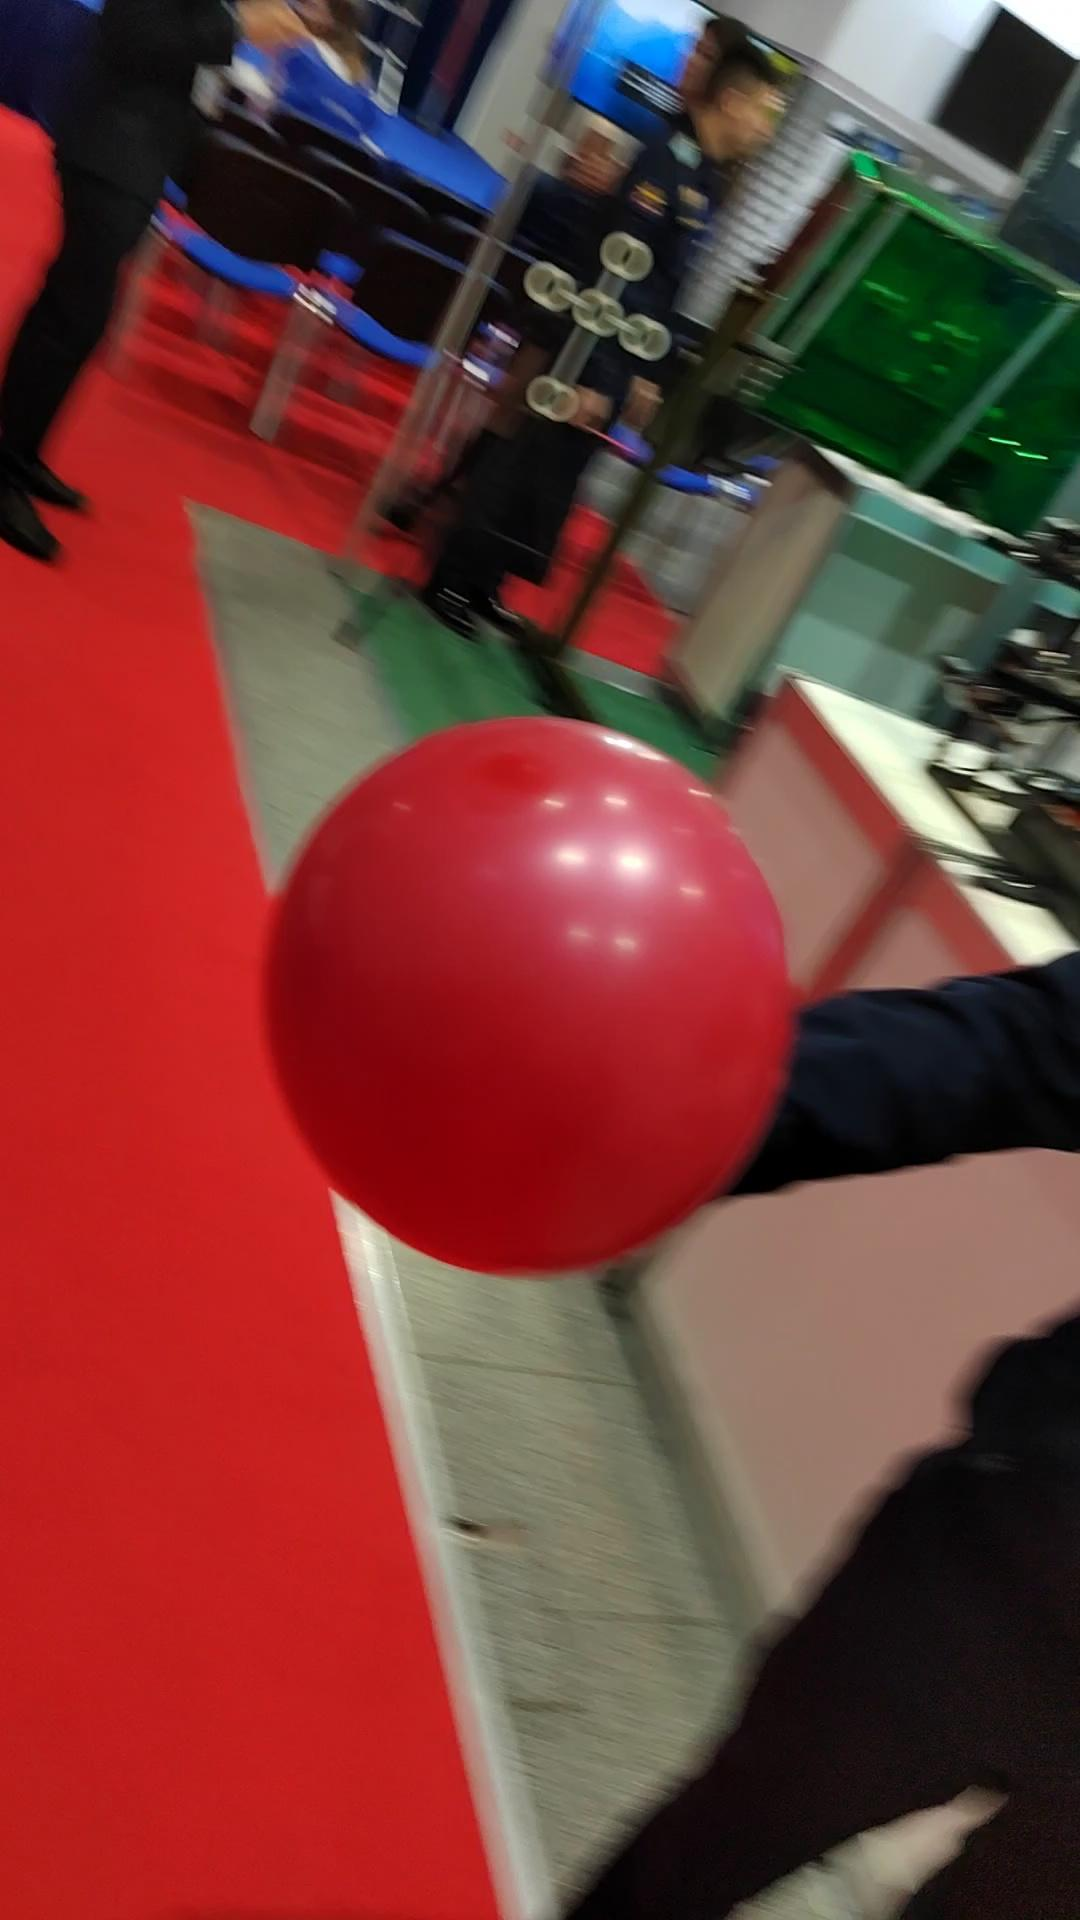red: (237, 704, 816, 1294)
